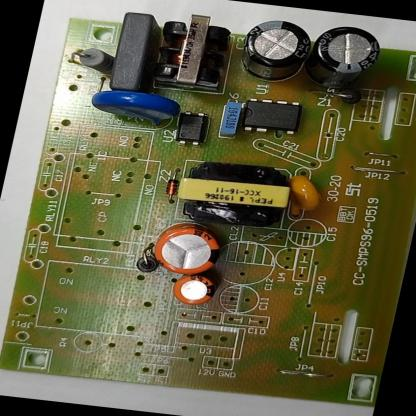Cap1: (146, 218, 233, 281)
Cap2: (164, 268, 223, 309)
Cap3: (232, 12, 318, 85)
Cap4: (299, 21, 392, 94)
MOSFET: (232, 94, 311, 140)
Mov: (82, 82, 185, 133)
Resistor: (65, 43, 114, 74)
Transformer: (168, 153, 299, 233), (147, 7, 241, 93)
